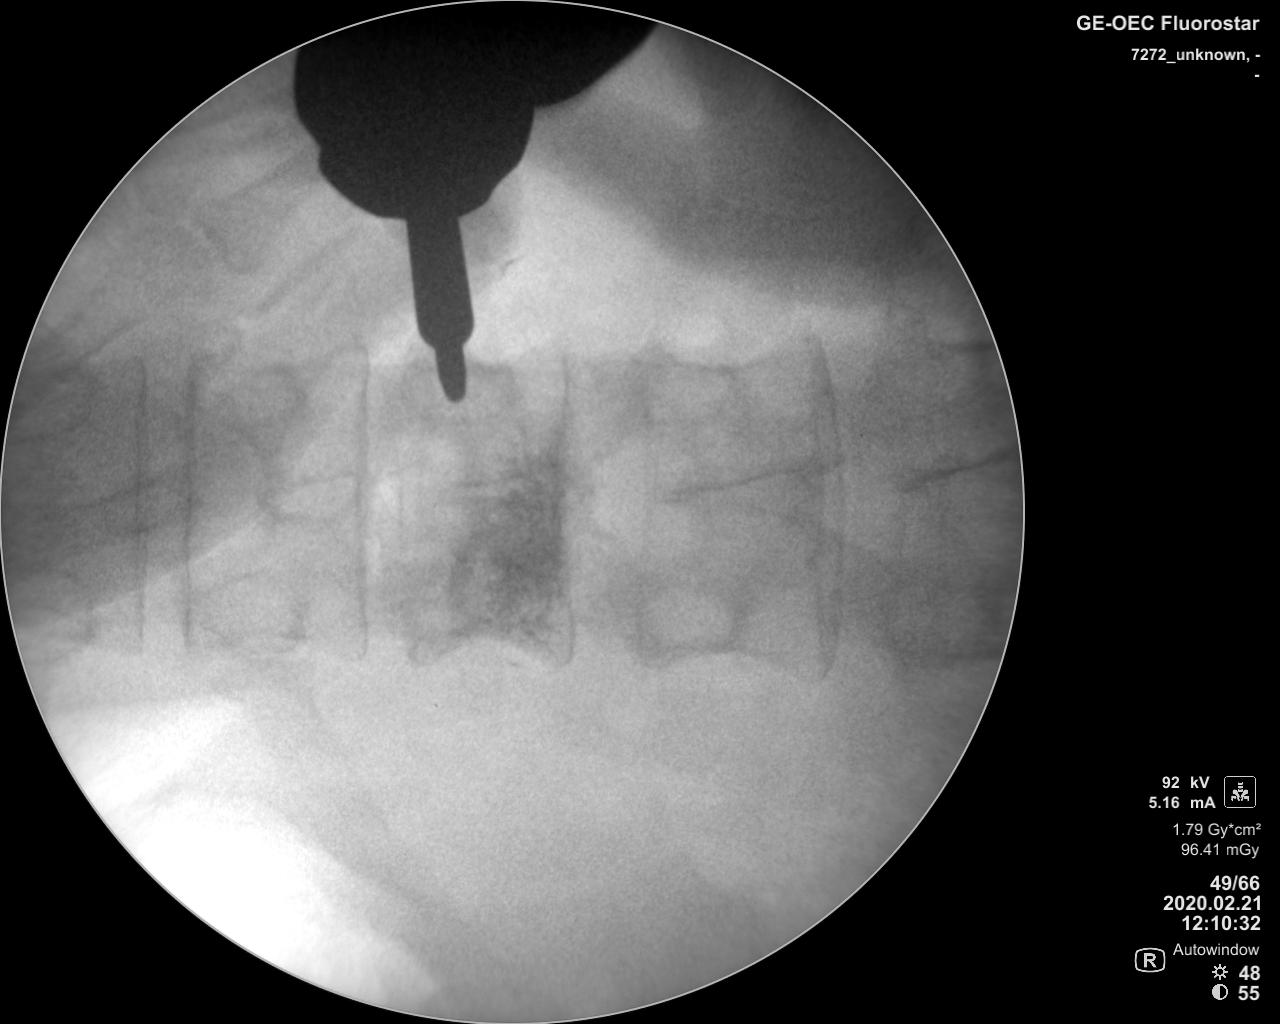eyes: (196, 572, 306, 655), (410, 358, 517, 433), (634, 576, 734, 655), (639, 348, 730, 424)
line: (800, 319, 852, 691), (548, 315, 585, 692), (341, 333, 382, 664), (171, 324, 206, 672), (124, 335, 156, 673)
nose: (652, 465, 828, 525), (437, 467, 606, 521), (246, 472, 371, 528)
